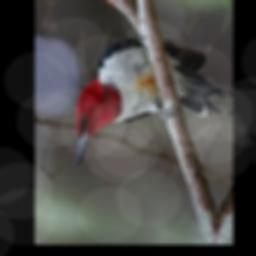Woodpecker: (71, 25, 228, 191)
